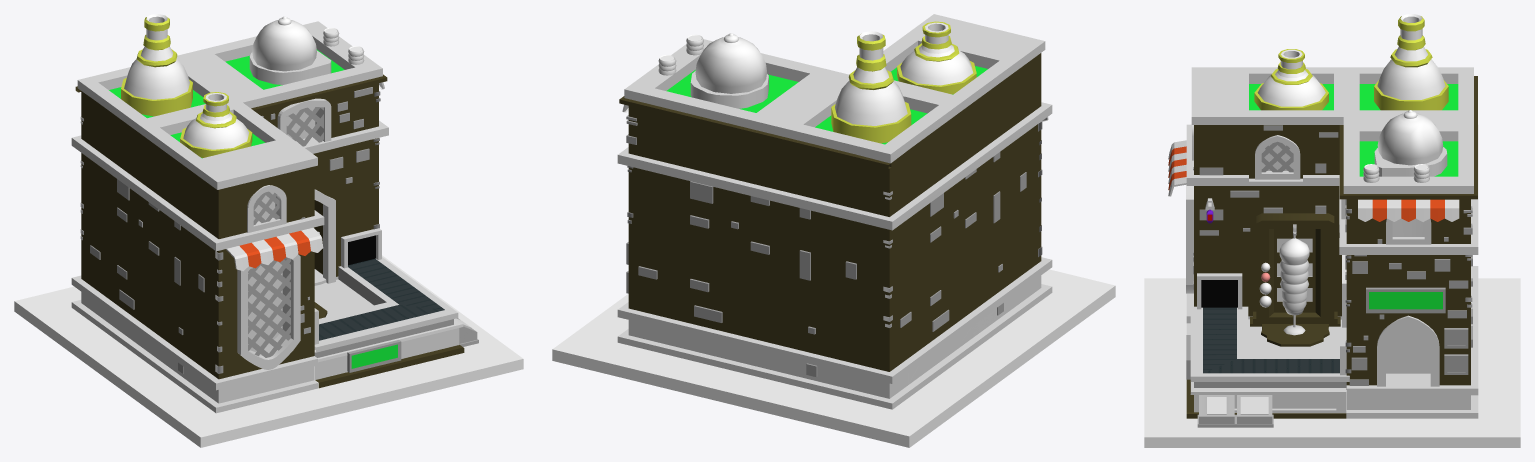
The model's file is building-kitchen-3.fbx.
3 renders of one model, left to right at view 1: azimuth 30°, elevation 25°; view 2: azimuth 150°, elevation 25°; view 3: azimuth 270°, elevation 25°, orthographic. The views are drawn at different scales.
Visible parts, largest first — view 1: Building.001, pCube2, polySurface2.001, polySurface2, pCylinder26.001, pCylinder26, pSphere4, Cube.028, Cube.004, Plane, Building.004, Cube (+6 smaller); view 2: Building.001, pCube2, pCylinder26.001, pCylinder26, pSphere4, Building.002; view 3: Building.001, pCube2, pCube60, polySurface2.001, polySurface2, pCylinder26.001, pCylinder26, pSphere4, Plane.001, pCube58, pCylinder5, Building.002 (+11 smaller).
Boxes of the visible parts, box(x1,y1,x2,y2) form: Building.001: box(71, 21, 388, 413); pCube2: box(14, 255, 523, 447); polySurface2.001: box(314, 257, 458, 357); polySurface2: box(314, 279, 464, 388); pCylinder26.001: box(121, 14, 192, 116); pCylinder26: box(180, 92, 252, 157); pSphere4: box(252, 16, 316, 71); Cube.028: box(248, 255, 290, 357); Cube.004: box(237, 254, 300, 369); Plane: box(226, 227, 323, 271); Building.004: box(341, 228, 381, 268); Cube: box(314, 189, 335, 283); Building.001: box(617, 14, 1052, 409); pCube2: box(552, 269, 1115, 447); pCylinder26.001: box(831, 31, 911, 143); pCylinder26: box(897, 21, 976, 94); pSphere4: box(695, 33, 766, 93); Building.002: box(619, 96, 891, 169); Building.001: box(1186, 67, 1478, 418); pCube2: box(1144, 278, 1520, 447); pCube60: box(1250, 213, 1340, 346); polySurface2.001: box(1190, 306, 1349, 389); polySurface2: box(1186, 319, 1346, 418); pCylinder26.001: box(1374, 14, 1448, 110); pCylinder26: box(1254, 49, 1328, 110); pSphere4: box(1377, 110, 1443, 165); Plane.001: box(1358, 199, 1459, 221); pCube58: box(1366, 287, 1445, 313); pCylinder5: box(1279, 238, 1309, 315); Building.002: box(1339, 76, 1477, 199).
Size of the model in its own units: 594 by 547 by 594.
